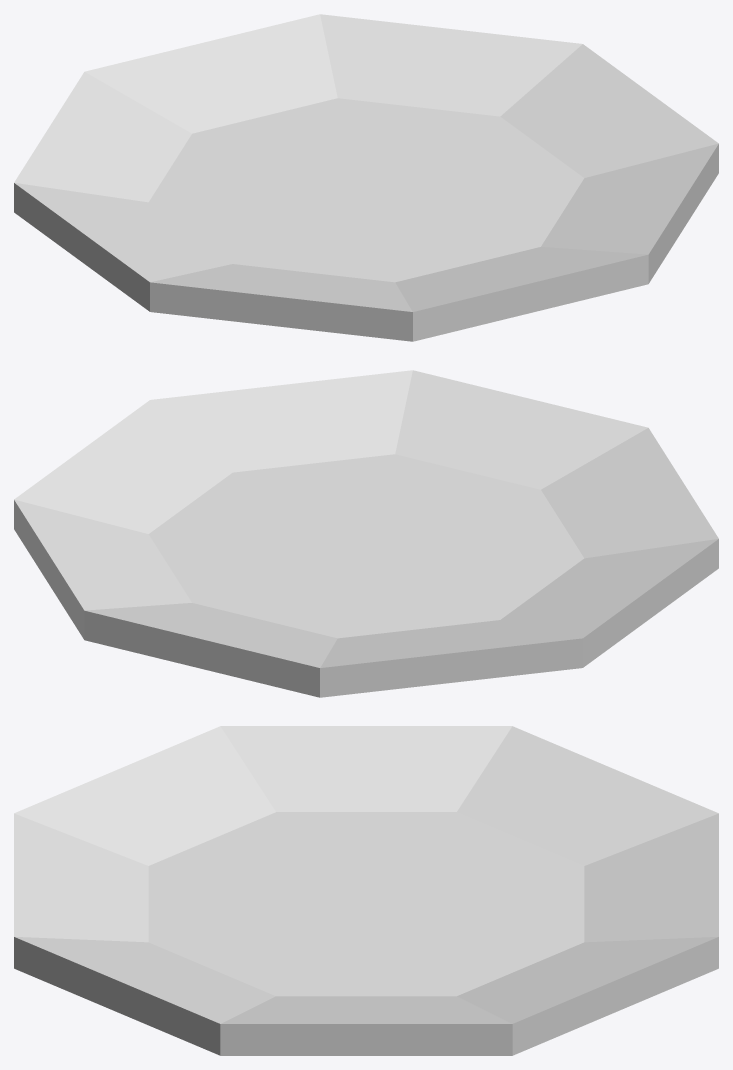
Rendered from Plate1_C1.fbx.
The picture shows the model from 3 angles, top to bottom: view 1: azimuth 30°, elevation 25°; view 2: azimuth 150°, elevation 25°; view 3: azimuth 270°, elevation 25°; orthographic projection. The views are drawn at different scales.
Parts seen in each view (by area): view 1: Plate1_C1; view 2: Plate1_C1; view 3: Plate1_C1.
Part boxes in pixels (left/top/right/bottom): Plate1_C1: left=14, top=14, right=718, bottom=341; Plate1_C1: left=14, top=370, right=718, bottom=697; Plate1_C1: left=14, top=726, right=718, bottom=1055.
Bounding box in the file's own units: 15.3 × 1.46 × 15.3.
